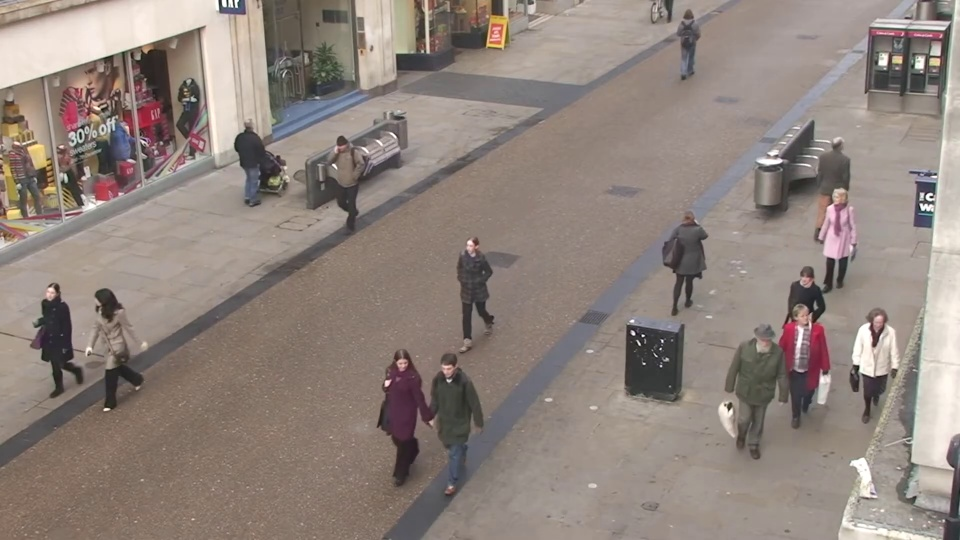pedestrian: (21, 281, 85, 419), (845, 307, 904, 455), (371, 347, 426, 502), (736, 333, 791, 486), (70, 284, 130, 422), (418, 354, 471, 510), (770, 303, 824, 449), (772, 265, 822, 400), (445, 232, 488, 360), (808, 189, 853, 305), (670, 202, 710, 321), (818, 128, 858, 229), (318, 136, 354, 237), (239, 113, 275, 205), (677, 5, 701, 71)
